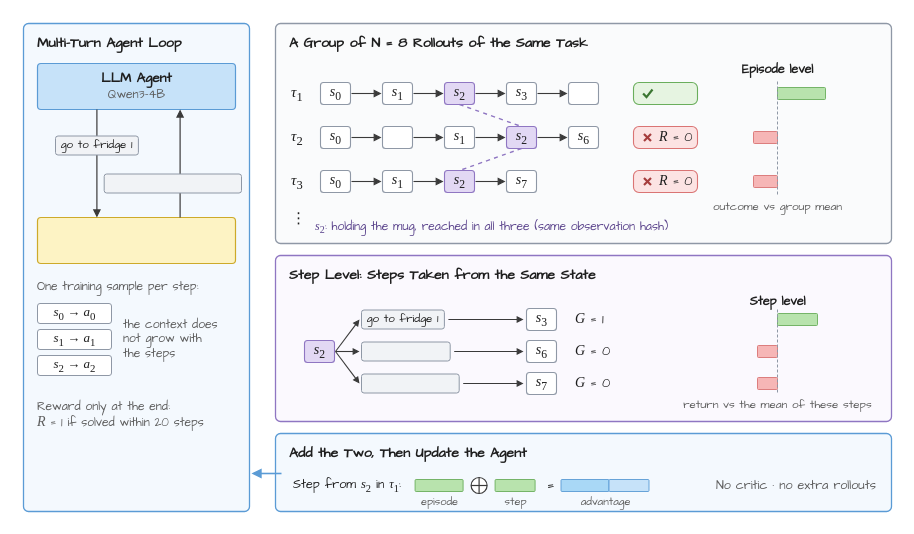
This 914x534 diagram has some shape labels left out. The shapes that lost their labels are listed below. From the top down, each one's centre as x and y in pixels, then its label:
At (583,93): "s 4".
At (665,93): "R = 1".
At (397,137): "s 5".
At (172,183): "“You arrive at fridge 1.”".
At (136,240): "Environment ALFWorld household tasks".
At (405,351): "go to cabinet 1".
At (409,383): "go to sinkbasin 1".
